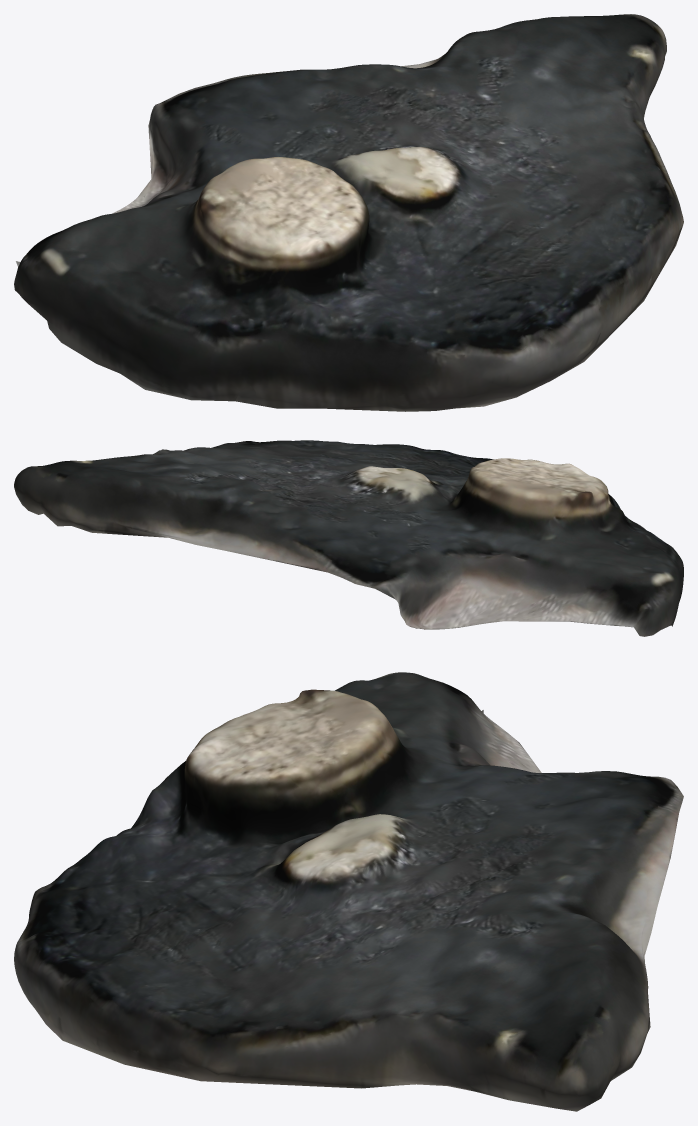
3 renders of one model, top to bottom at view 1: azimuth 30°, elevation 25°; view 2: azimuth 150°, elevation 25°; view 3: azimuth 270°, elevation 25°, orthographic. The views are drawn at different scales.
Size of the model in its own units: 0.7003 by 0.172 by 0.467.
Materials: 1 (1 with a texture image).
